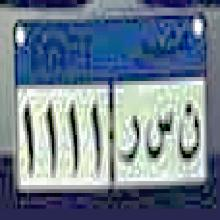1: (89, 99, 102, 172), (23, 103, 35, 177), (46, 101, 56, 173), (70, 100, 79, 176)
noon: (176, 101, 200, 162)
raa: (119, 115, 141, 166)
seen: (145, 106, 176, 165)
